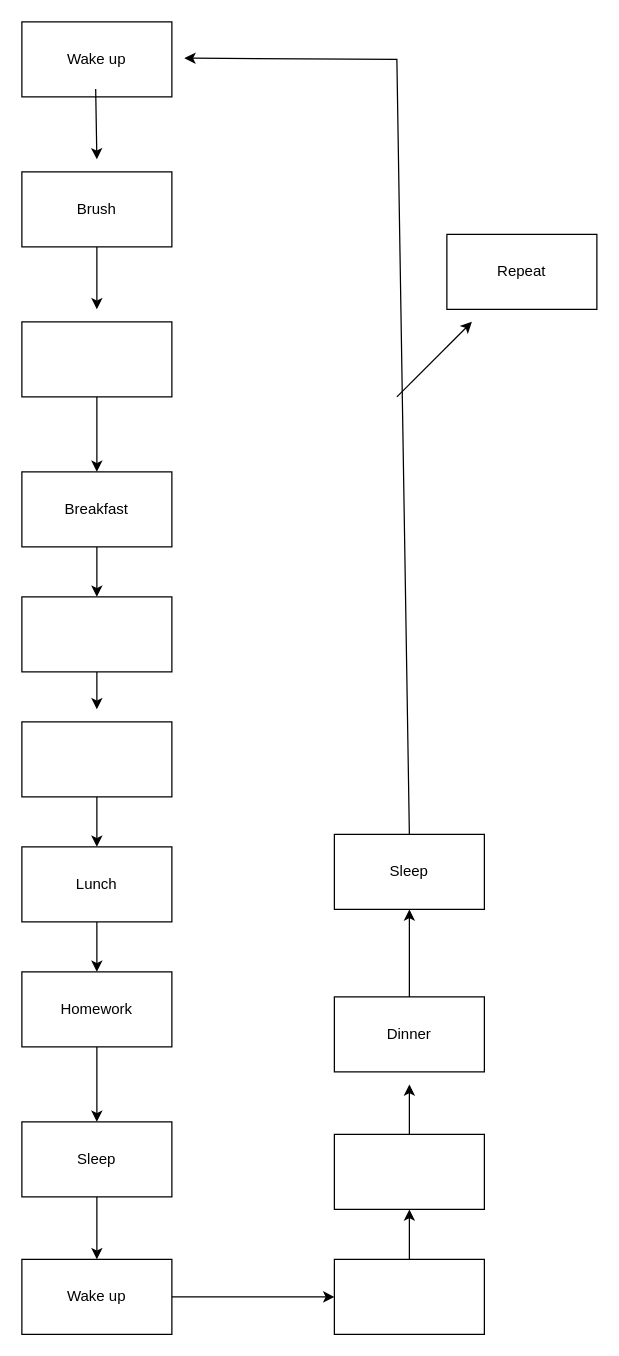
The diagram is 619 pixels wide and 1356 high, and some of its shapes have lost their labels. The centre of each missing label's shape, as x and y in pixels:
"Bath" belongs at point 96,359.
"Home" belongs at point 96,759.
"Play" belongs at point 408,1171.
"School" belongs at point 96,634.
"Study" belongs at point 408,1296.
